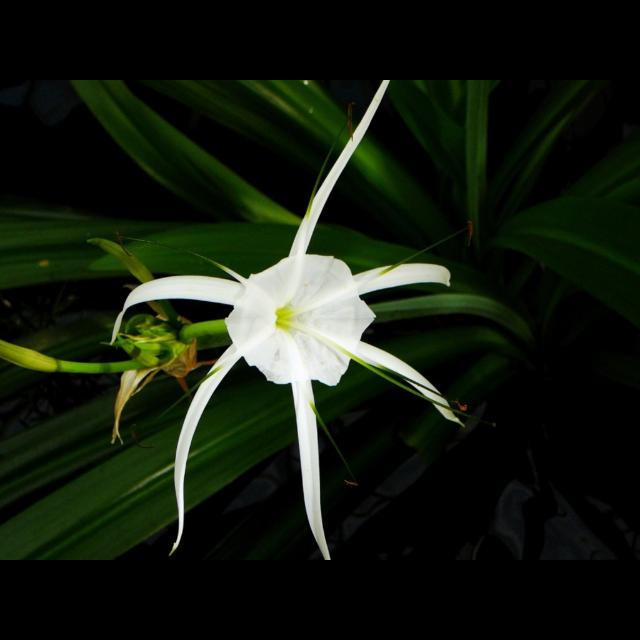Flower: (60, 80, 516, 556)
